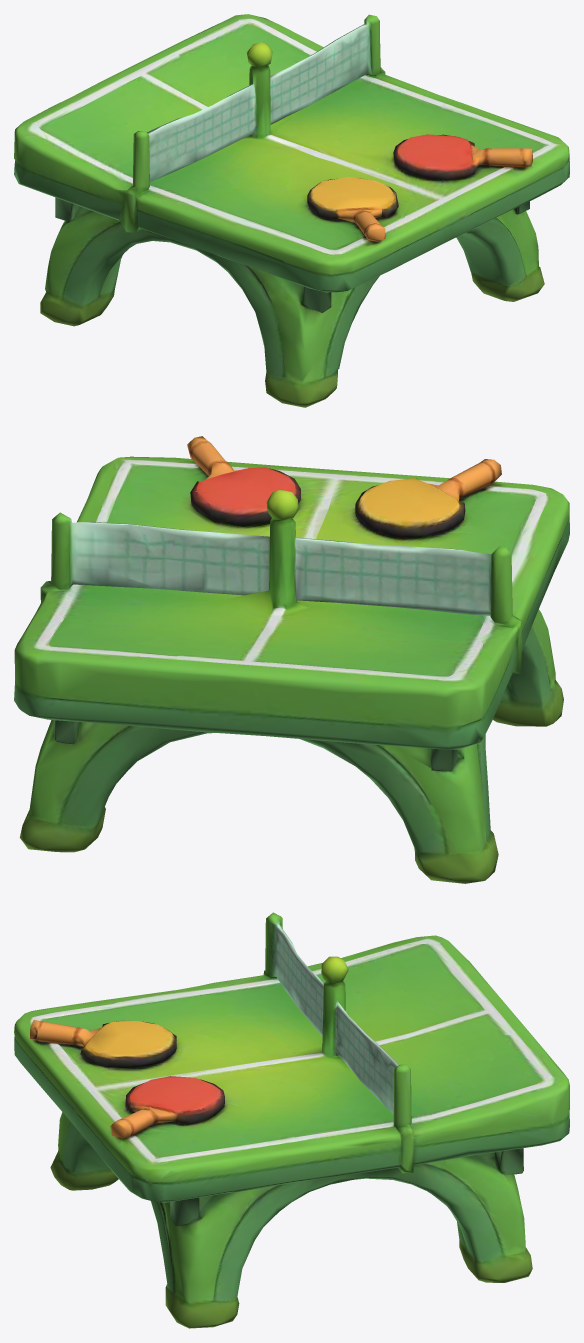
The model's file is pingpong_table.glb.
3 renders of one model, top to bottom at view 1: azimuth 30°, elevation 25°; view 2: azimuth 150°, elevation 25°; view 3: azimuth 270°, elevation 25°, orthographic. The views are drawn at different scales.
Visible parts, largest first — view 1: tripo_node_61f5a3b3-8a5f-4059-aa67-38d98cb5b283; view 2: tripo_node_61f5a3b3-8a5f-4059-aa67-38d98cb5b283; view 3: tripo_node_61f5a3b3-8a5f-4059-aa67-38d98cb5b283.
Part boxes in pixels (x1,y1,x2,y2): tripo_node_61f5a3b3-8a5f-4059-aa67-38d98cb5b283: (14,14,569,407); tripo_node_61f5a3b3-8a5f-4059-aa67-38d98cb5b283: (14,436,569,883); tripo_node_61f5a3b3-8a5f-4059-aa67-38d98cb5b283: (14,912,569,1328).
Bounding box in the file's own units: 0.9014 × 0.5 × 0.9617.
Materials: 1 (1 with a texture image).
